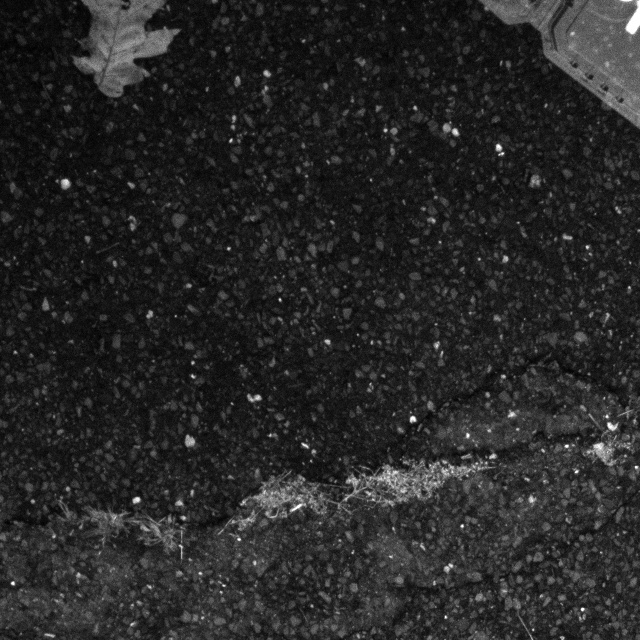container: (422, 0, 640, 141)
